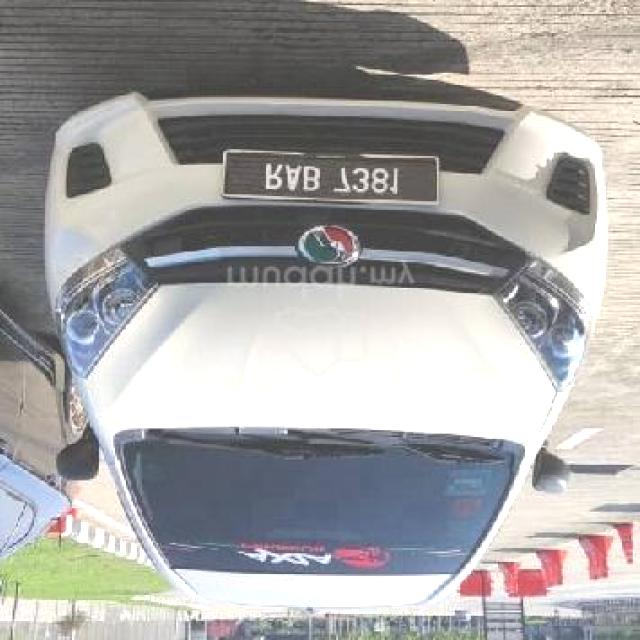PeroduaAxia: (41, 90, 609, 612)
